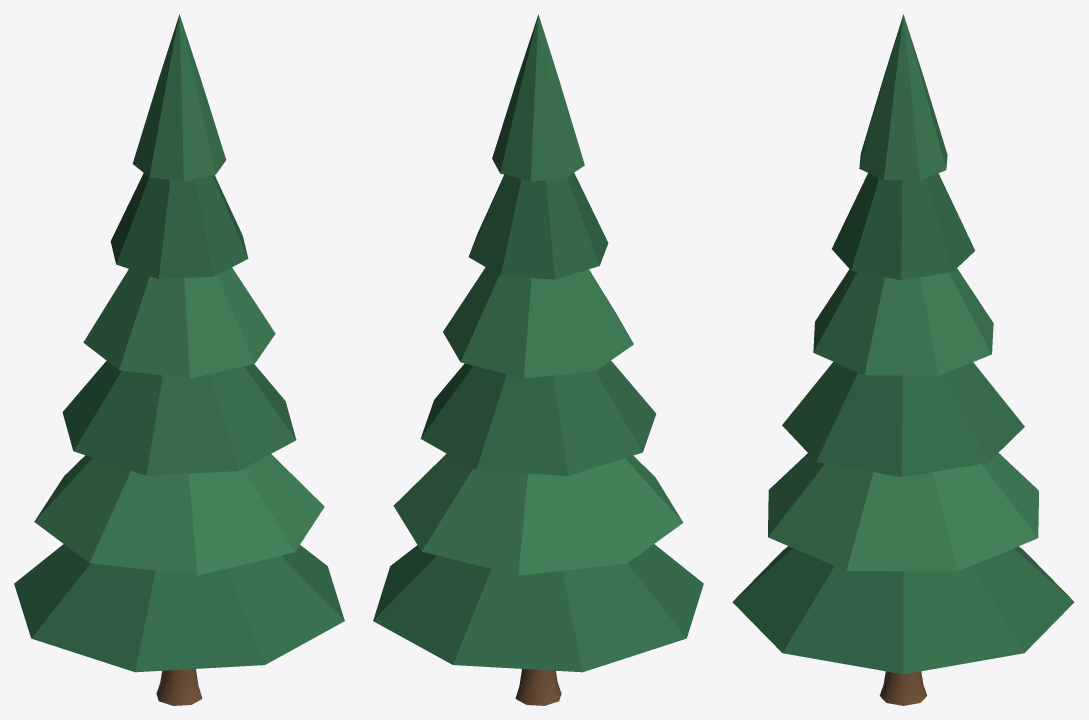
File: arvore-pinheiro.glb
3 views of the same model, side by side, from view 1: azimuth 30°, elevation 25°; view 2: azimuth 150°, elevation 25°; view 3: azimuth 270°, elevation 25° (orthographic).
Visible parts, largest first — view 1: Copa, Tronco; view 2: Copa, Tronco; view 3: Copa, Tronco.
Part boxes in pixels (x1,y1,x2,y2): Copa: (14, 14, 344, 672); Tronco: (156, 669, 202, 705); Copa: (373, 14, 703, 672); Tronco: (515, 669, 561, 705); Copa: (732, 14, 1074, 674); Tronco: (879, 671, 927, 705).
Size of the model in its own units: 4.3 by 9.45 by 4.3.
